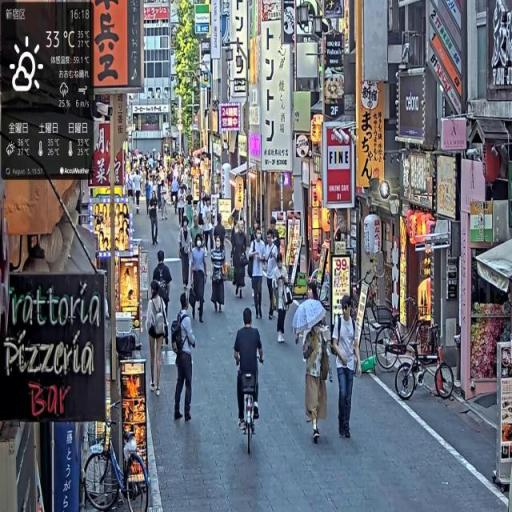person: (331, 295, 361, 443), (234, 307, 265, 430), (172, 291, 198, 425), (147, 282, 169, 395), (272, 243, 295, 347), (151, 251, 174, 349), (249, 228, 268, 320), (189, 233, 208, 324), (231, 219, 249, 301), (211, 231, 228, 314), (265, 229, 279, 317), (149, 186, 161, 245)
